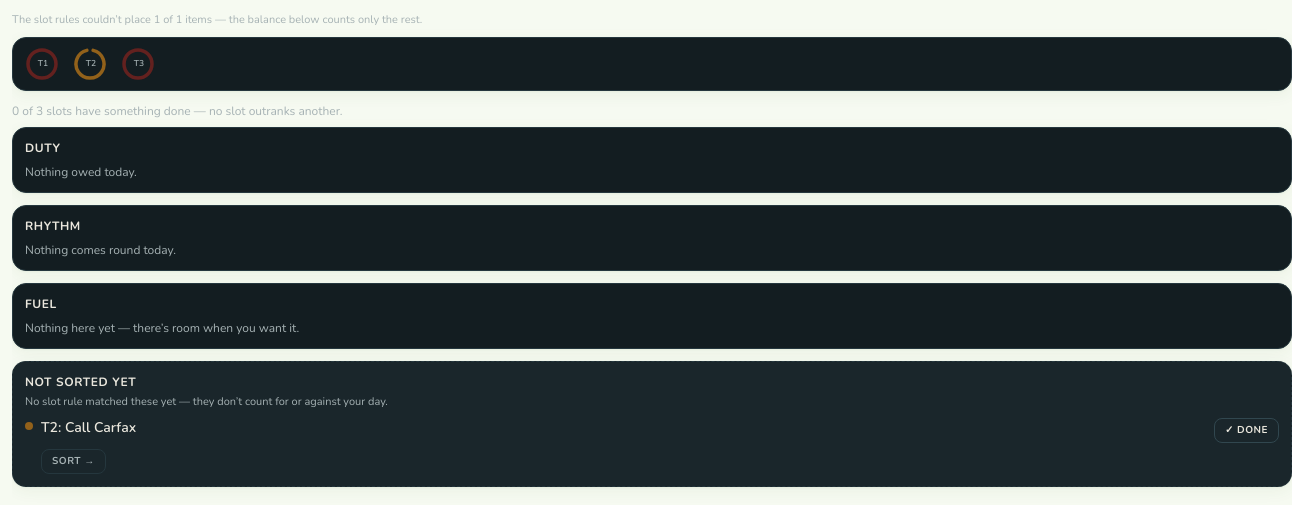
Test: the residue row can finally be sorted › can be closed without choosing
The width and height of the screenshot is (1292, 505).
Click the button with test id "board-sort-open": (73, 462) 41,449 -> 106,474
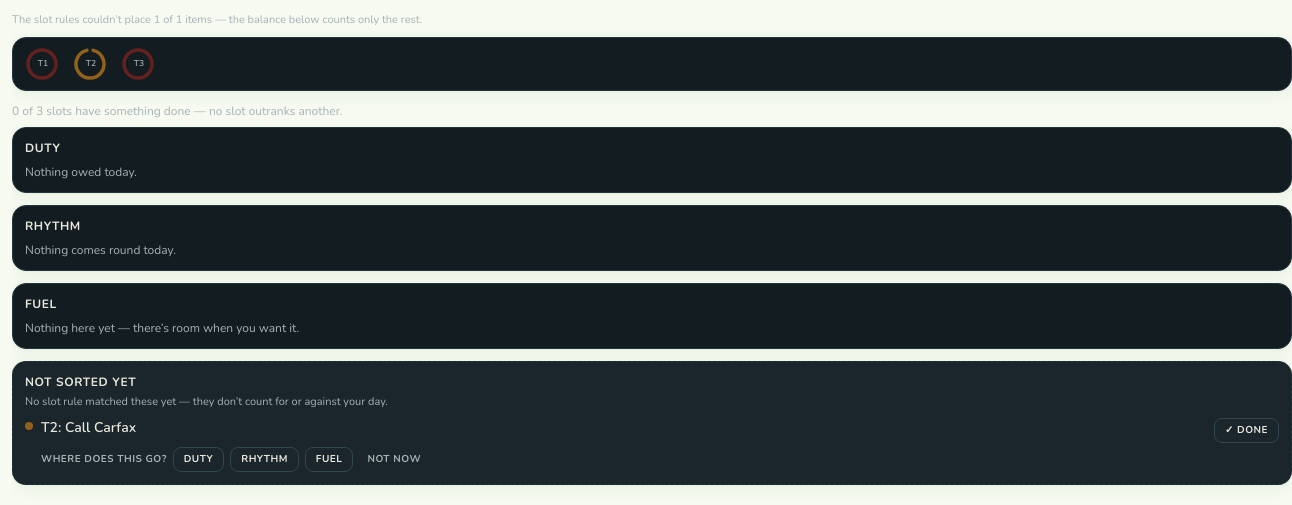
Click the button with test id "board-sort-cancel": (394, 460) 359,448 -> 429,471
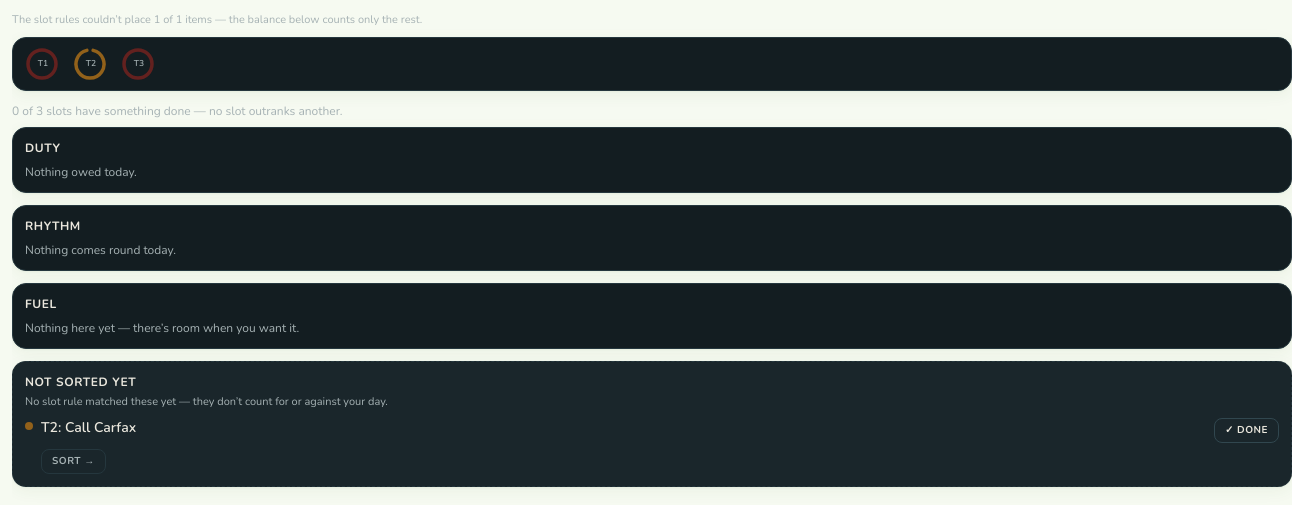
Expected: the element with test id "board-sort-picker" is gone
